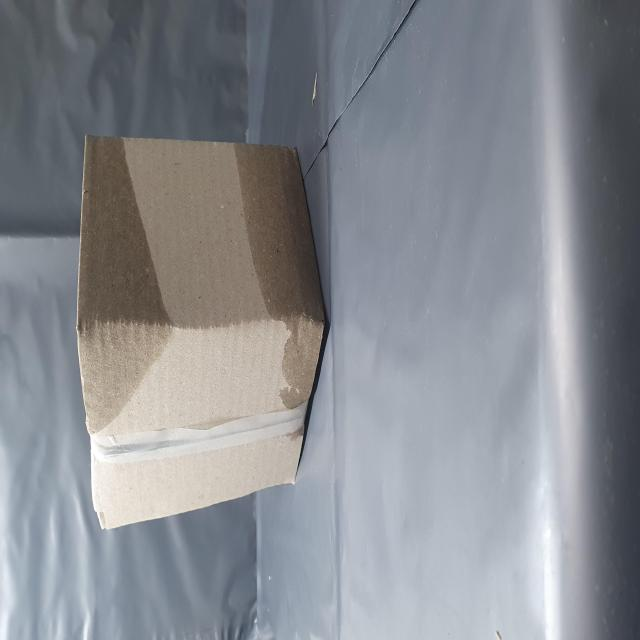wet: (107, 418, 286, 580), (118, 138, 286, 293)
